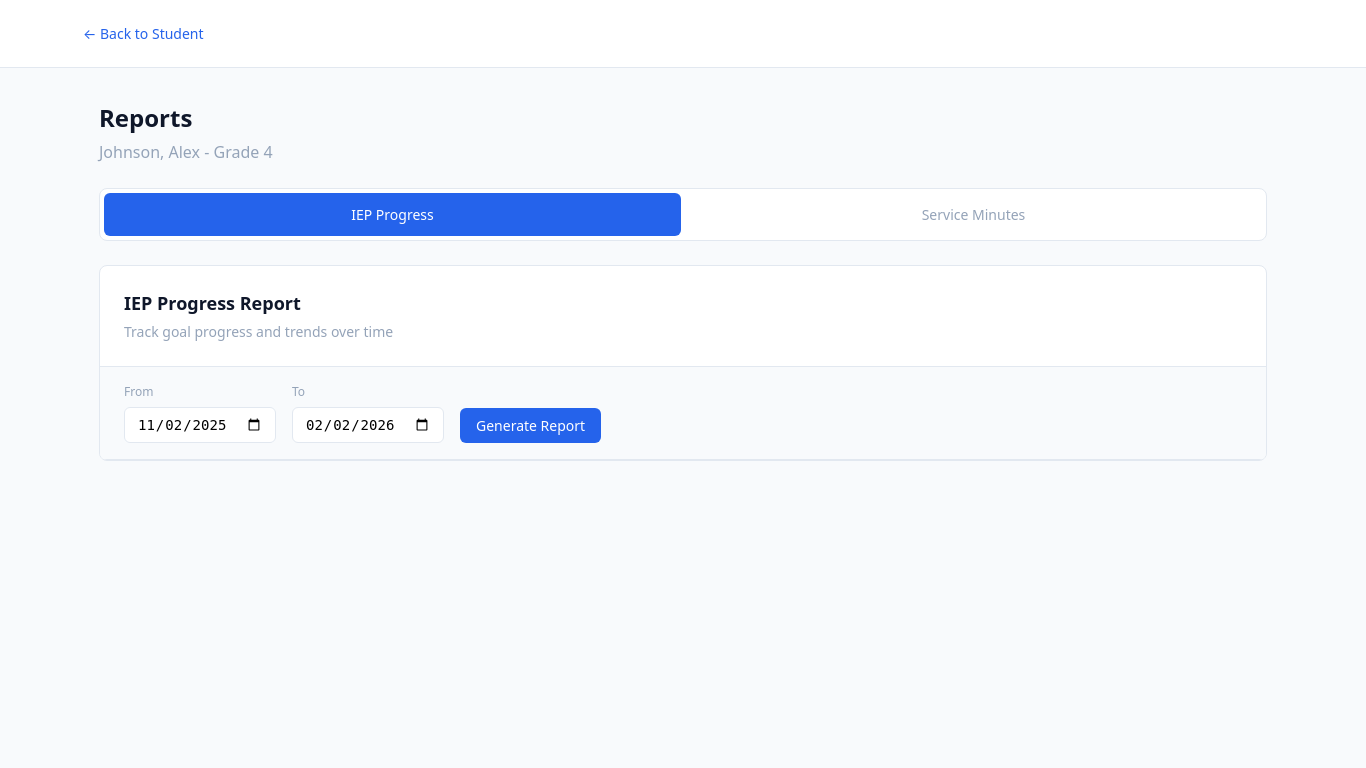
Test: Reports Page › Service Minutes Report › displays service summary cards
Click the button "Service Minutes" at (974,214), box [685,193,1262,236]
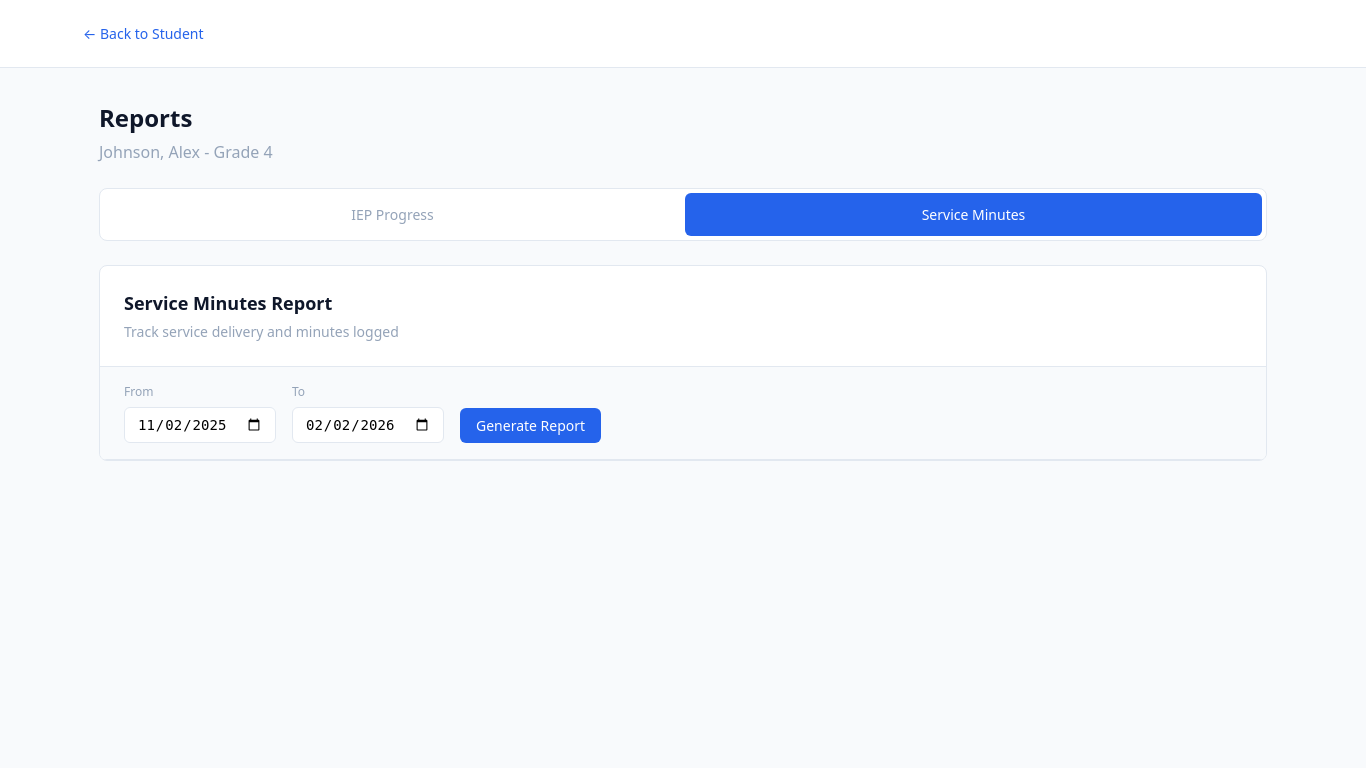
Click the button "Generate Report" at (531,426), box [460,408,601,443]
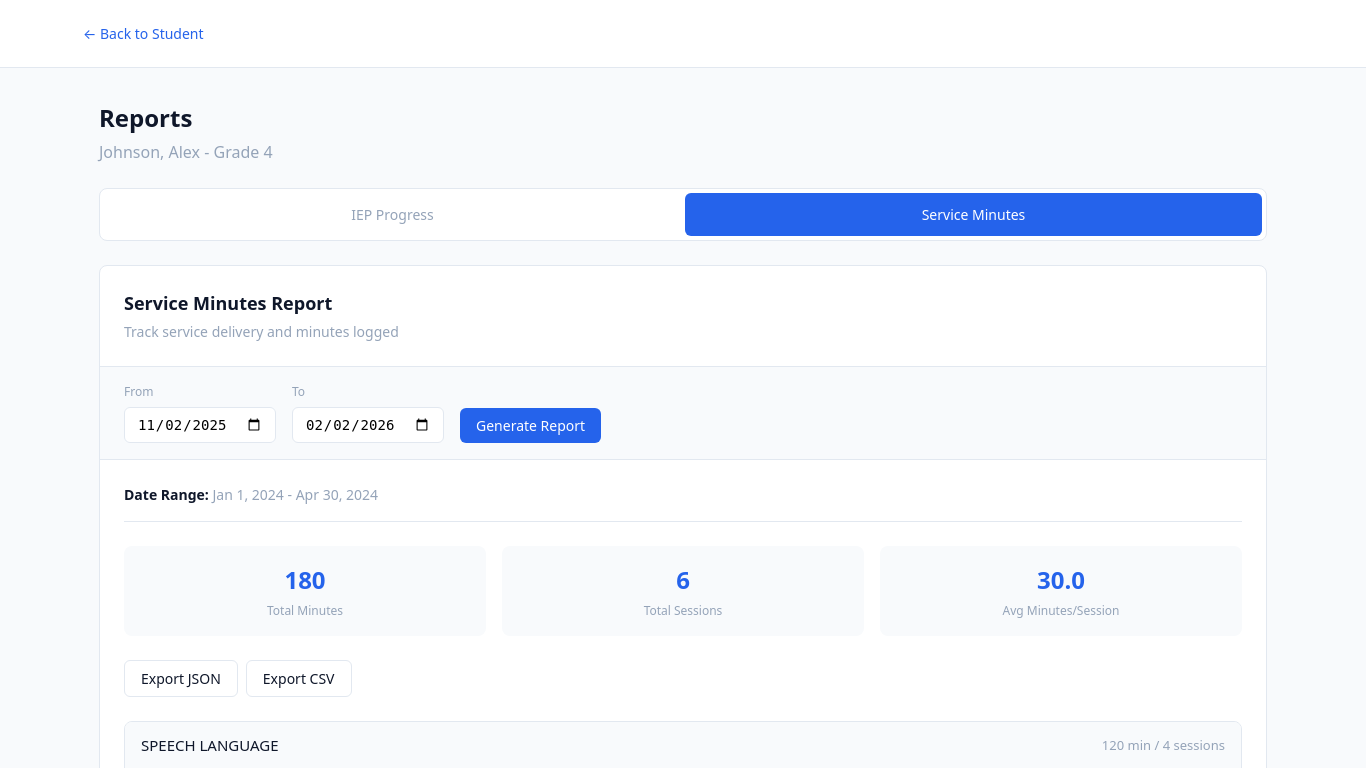
Check: the text "Total Minutes" is shown, box [267,602,343,619]
Check: the text "Total Sessions" is shown, box [644,602,722,619]
Check: the text "Avg Minutes/Session" is shown, box [1002,602,1120,619]
